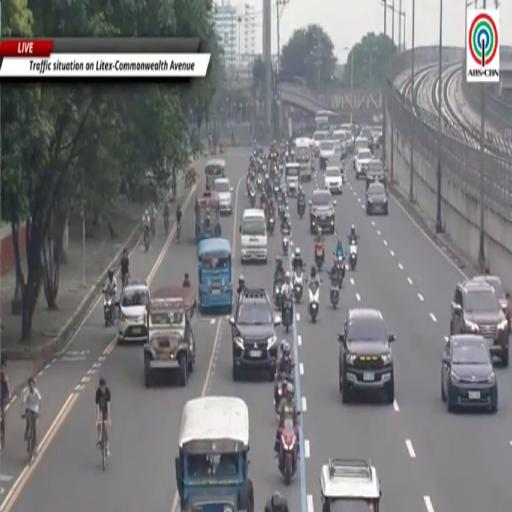car: (339, 309, 395, 403), (450, 280, 509, 366), (230, 288, 281, 380), (441, 334, 497, 411), (320, 459, 381, 511), (118, 281, 150, 343), (474, 275, 510, 330), (240, 208, 267, 264), (309, 189, 336, 233), (366, 182, 388, 215), (214, 179, 233, 215), (366, 158, 386, 188), (319, 140, 339, 169), (324, 165, 344, 194), (355, 149, 372, 179), (354, 137, 369, 168), (313, 131, 329, 156), (360, 126, 373, 151), (334, 140, 343, 161)
jeepney: (176, 396, 253, 511), (144, 286, 196, 387), (198, 238, 232, 313), (195, 191, 221, 243), (295, 138, 312, 182), (205, 159, 226, 189), (285, 163, 299, 196)
motorcycle: (279, 419, 298, 485), (274, 363, 294, 412), (309, 283, 320, 323), (104, 294, 115, 326), (283, 297, 293, 332), (293, 268, 303, 302), (274, 280, 283, 310), (330, 279, 339, 309), (315, 243, 324, 270), (349, 244, 357, 270), (297, 197, 305, 219), (267, 216, 275, 235), (282, 235, 289, 255), (256, 173, 263, 193), (260, 195, 267, 214), (144, 228, 149, 251), (279, 202, 285, 221), (249, 189, 255, 207), (274, 183, 280, 199), (164, 215, 169, 234)
